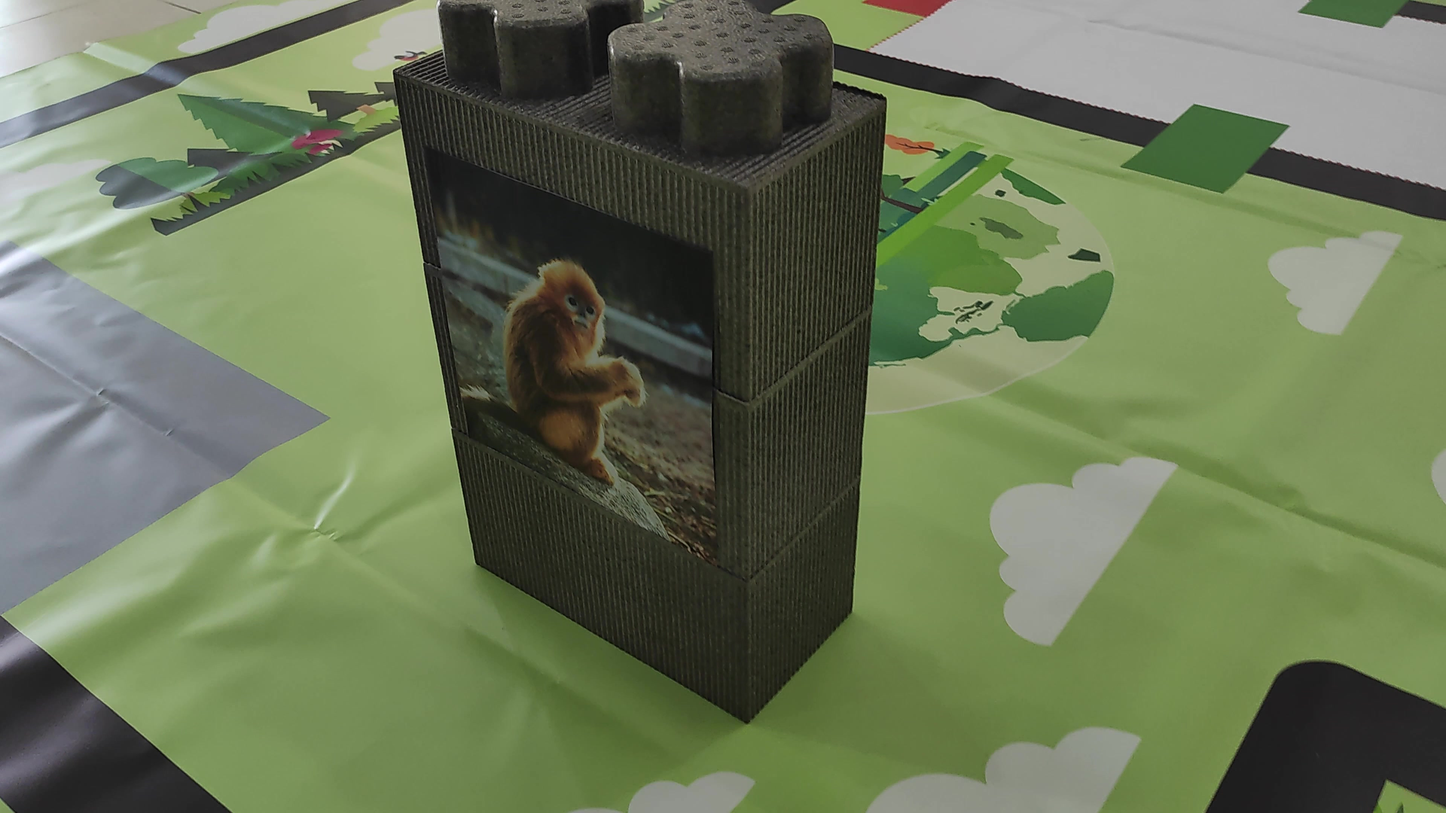monkey: (476, 226, 703, 513)
